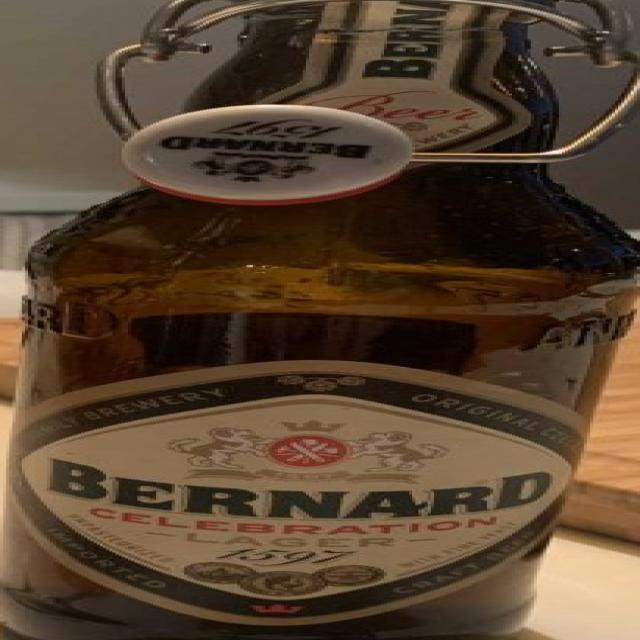Bernard Cvatecni Lezak: (3, 1, 640, 640)
